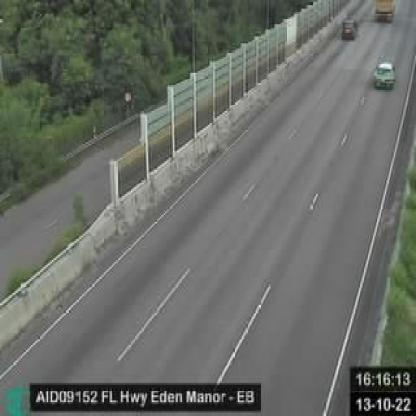Car: (374, 61, 396, 90), (341, 18, 358, 39)
Truck: (374, 0, 396, 24)
